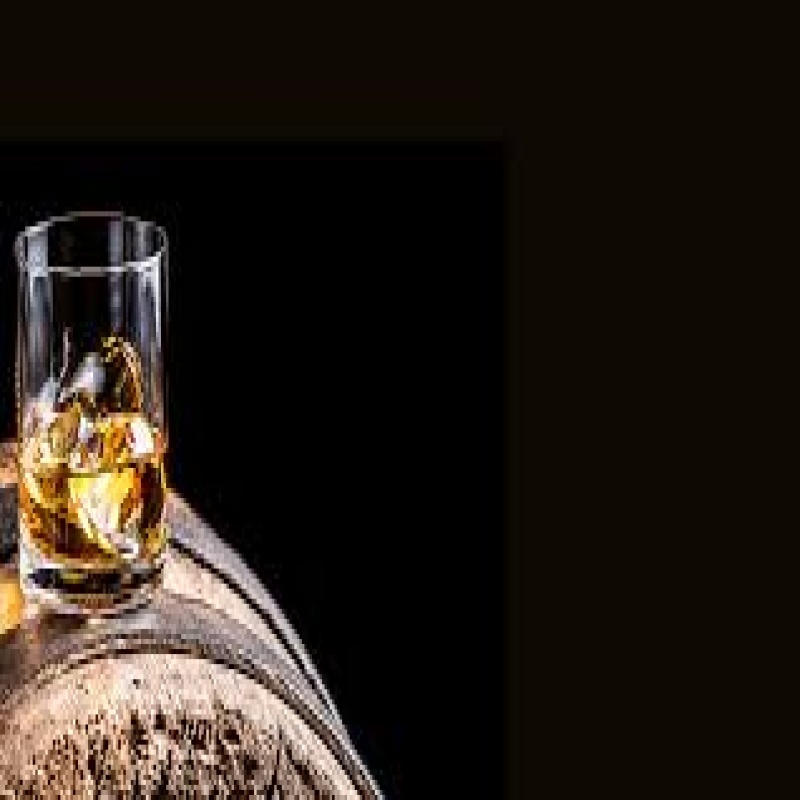whiskey: (16, 214, 186, 610)
